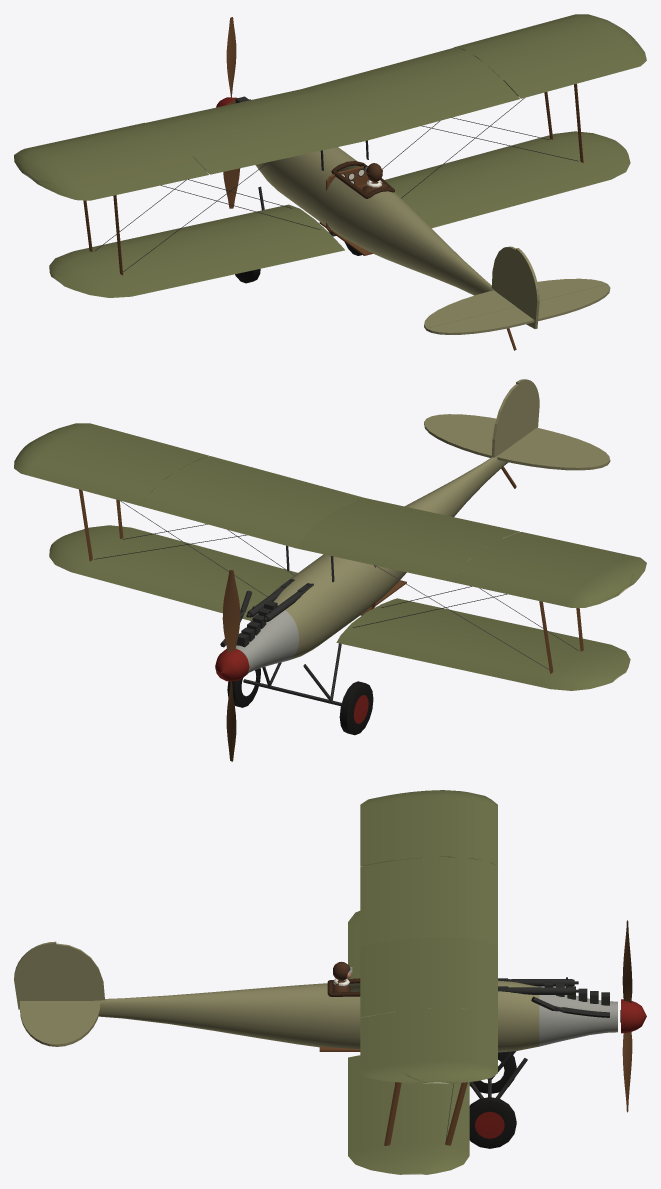
The model's file is albatros_dii.glb.
3 views of the same model, one above another, from view 1: azimuth 30°, elevation 25°; view 2: azimuth 150°, elevation 25°; view 3: azimuth 270°, elevation 25° (orthographic).
Visible parts, largest first — view 1: Wing_Upper_R, Wing_Upper_L, Wing_Lower_L, Wing_Lower_R, Fuselage, Aileron_L, Aileron_R, Elevator, Stabilizer_L, Rudder, Wires, PropBlades (+5 smaller); view 2: Wing_Upper_R, Wing_Upper_L, Wing_Lower_L, Wing_Lower_R, Fuselage, PropBlades, Elevator, Wheels, Stabilizer_L, Aileron_L, Aileron_R, Stabilizer_R (+7 smaller); view 3: Wing_Upper_L, Wing_Upper_R, Fuselage, Wing_Lower_R, Wheels, Aileron_R, Aileron_L, Fin, Rudder, PropBlades, Stabilizer_R, Elevator (+4 smaller).
Part boxes in pixels (x1=…): Wing_Upper_R: x1=301, y1=14, x2=632, y2=140; Wing_Upper_L: x1=14, y1=89, x2=364, y2=182; Wing_Lower_L: x1=49, y1=204, x2=344, y2=297; Wing_Lower_R: x1=384, y1=131, x2=630, y2=228; Fuselage: x1=255, y1=147, x2=495, y2=295; Aileron_L: x1=33, y1=155, x2=208, y2=200; Aileron_R: x1=503, y1=35, x2=646, y2=98; Elevator: x1=426, y1=284, x2=610, y2=334; Stabilizer_L: x1=424, y1=290, x2=515, y2=330; Rudder: x1=516, y1=248, x2=539, y2=328; Wires: x1=94, y1=98, x2=578, y2=272; PropBlades: x1=216, y1=17, x2=240, y2=208; Wing_Upper_R: x1=14, y1=429, x2=364, y2=548; Wing_Upper_L: x1=296, y1=498, x2=632, y2=607; Wing_Lower_L: x1=336, y1=598, x2=630, y2=690; Wing_Lower_R: x1=49, y1=525, x2=297, y2=620; Fuselage: x1=236, y1=454, x2=508, y2=673; PropBlades: x1=215, y1=570, x2=249, y2=761; Elevator: x1=427, y1=414, x2=610, y2=464; Wheels: x1=227, y1=668, x2=373, y2=735; Stabilizer_L: x1=497, y1=440, x2=607, y2=470; Aileron_L: x1=503, y1=532, x2=646, y2=586; Aileron_R: x1=49, y1=423, x2=208, y2=462; Stabilizer_R: x1=424, y1=418, x2=492, y2=457; Wing_Upper_L: x1=360, y1=790, x2=497, y2=946; Wing_Upper_R: x1=360, y1=937, x2=497, y2=1083; Fuselage: x1=94, y1=980, x2=617, y2=1052; Wing_Lower_R: x1=348, y1=1055, x2=469, y2=1174; Wheels: x1=469, y1=1051, x2=516, y2=1148; Aileron_R: x1=360, y1=1012, x2=427, y2=1083; Aileron_L: x1=360, y1=792, x2=406, y2=866; Fin: x1=56, y1=943, x2=104, y2=1000; Rudder: x1=14, y1=941, x2=56, y2=1009; PropBlades: x1=620, y1=920, x2=646, y2=1112; Stabilizer_R: x1=56, y1=1001, x2=100, y2=1046; Elevator: x1=20, y1=1001, x2=56, y2=1046.
Bounding box in the file's own units: 8.5 × 2.71 × 7.81.
